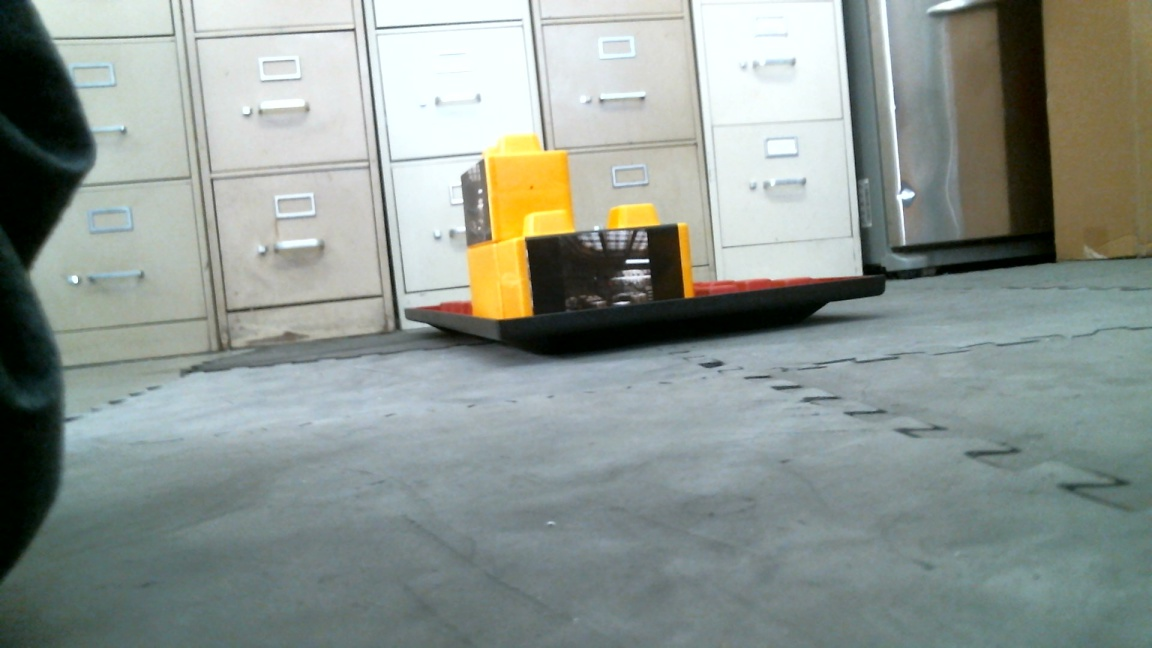red_foundation: (406, 288, 879, 336)
skystone: (513, 202, 686, 302), (465, 141, 569, 241)
